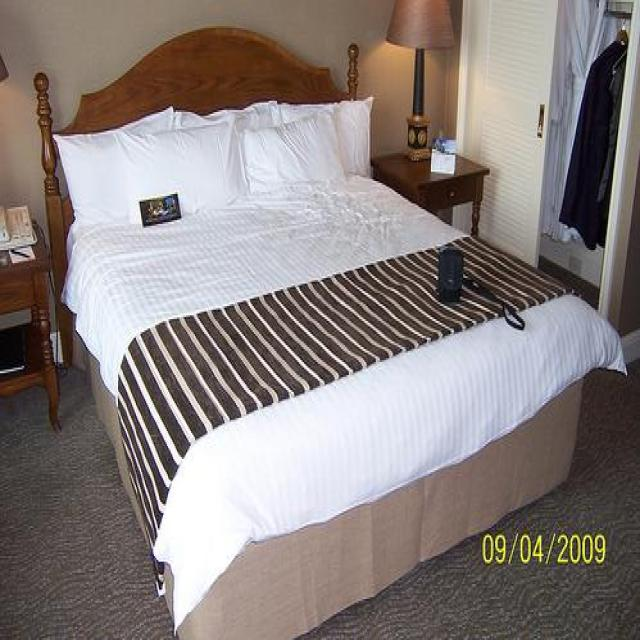bed: (32, 24, 627, 638)
